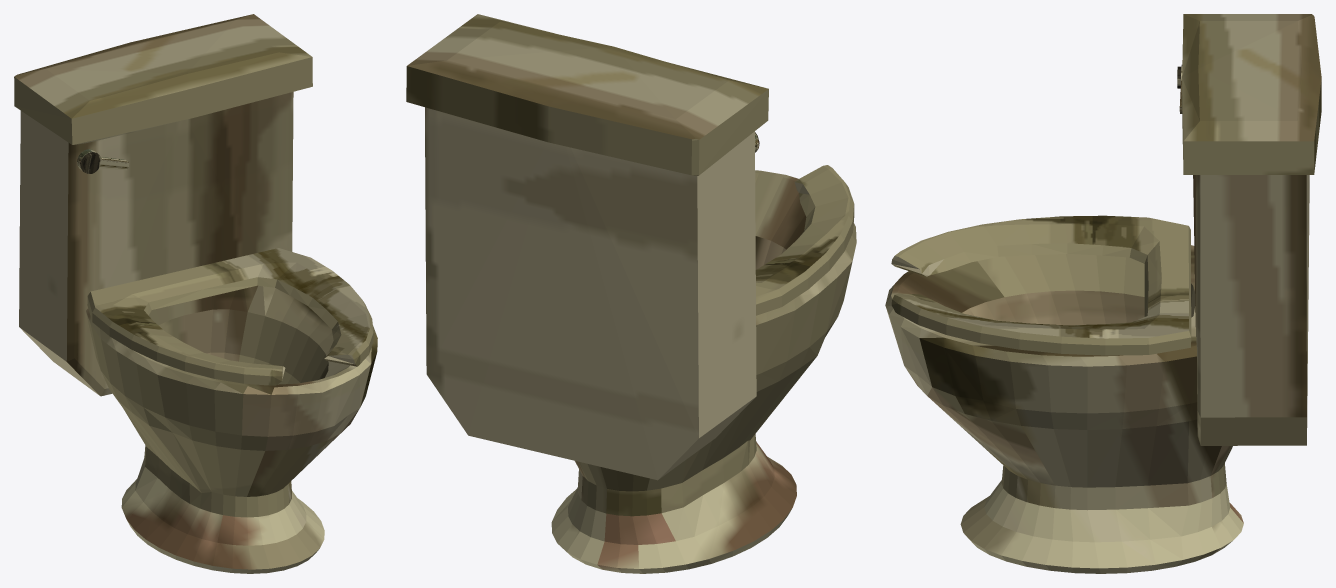
Rendered from SM_toilet.fbx.
3 views of the same model, side by side, from view 1: azimuth 30°, elevation 25°; view 2: azimuth 150°, elevation 25°; view 3: azimuth 270°, elevation 25° (orthographic). The views are drawn at different scales.
Visible parts, largest first — view 1: SM_toilet; view 2: SM_toilet; view 3: SM_toilet.
Boxes of the visible parts, bbox=[...] form: SM_toilet: bbox=[14, 14, 377, 573]; SM_toilet: bbox=[406, 14, 856, 573]; SM_toilet: bbox=[885, 14, 1321, 573].
Size of the model in its own units: 50.08 by 83.27 by 70.45.
